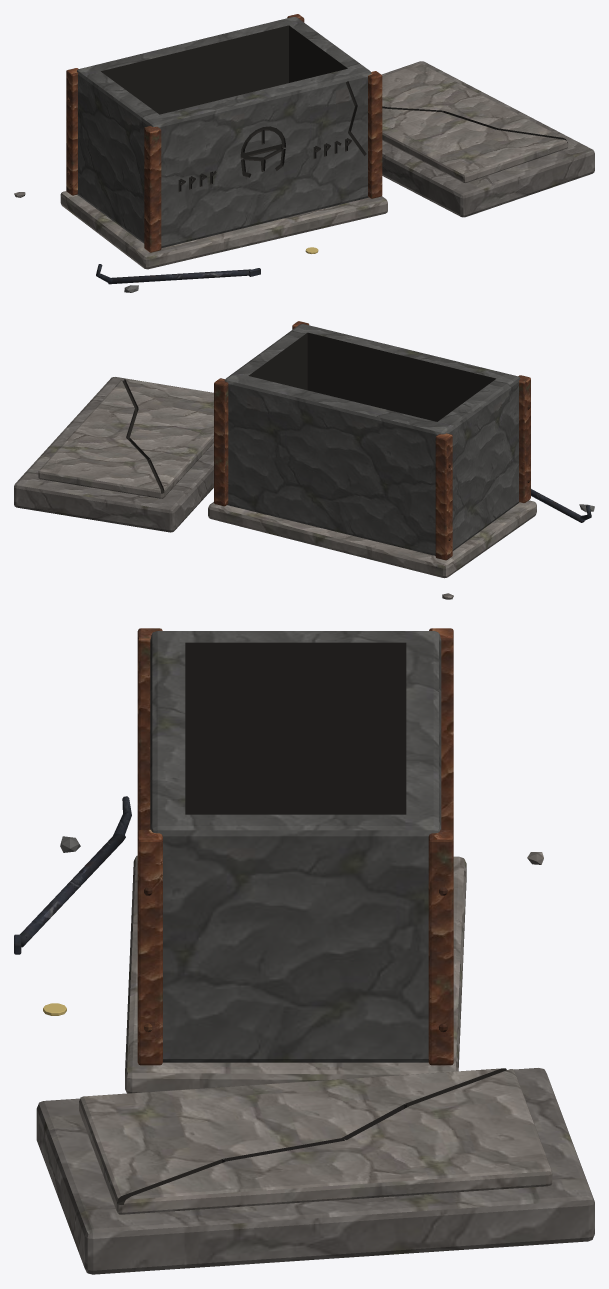
The model's file is th_chest_looted.glb.
3 renders of one model, top to bottom at view 1: azimuth 30°, elevation 25°; view 2: azimuth 150°, elevation 25°; view 3: azimuth 270°, elevation 25°, orthographic. The views are drawn at different scales.
Parts seen in each view (by area): view 1: model; view 2: model; view 3: model.
Part boxes in pixels (bbox=[...]): model: bbox=[14, 14, 594, 292]; model: bbox=[14, 321, 594, 599]; model: bbox=[14, 628, 594, 1274].
Size of the model in its own units: 2.1 by 0.577 by 1.16.
Materials: 8 (6 with a texture image).
